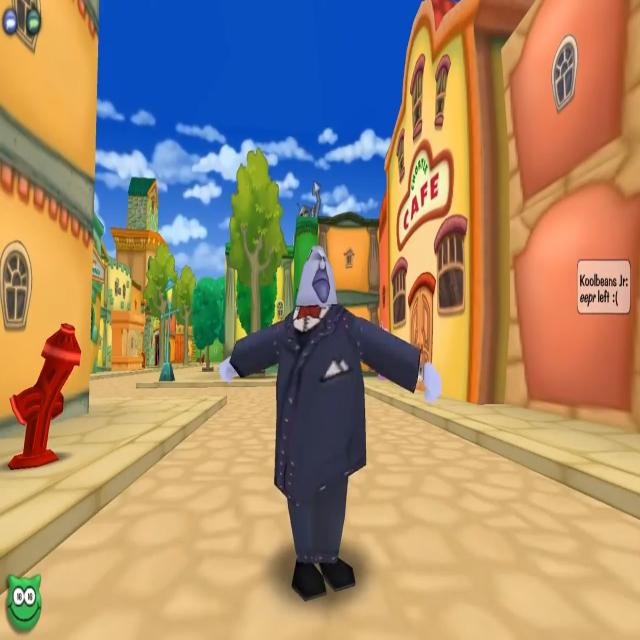bottomfeeder: (218, 218, 440, 608)
